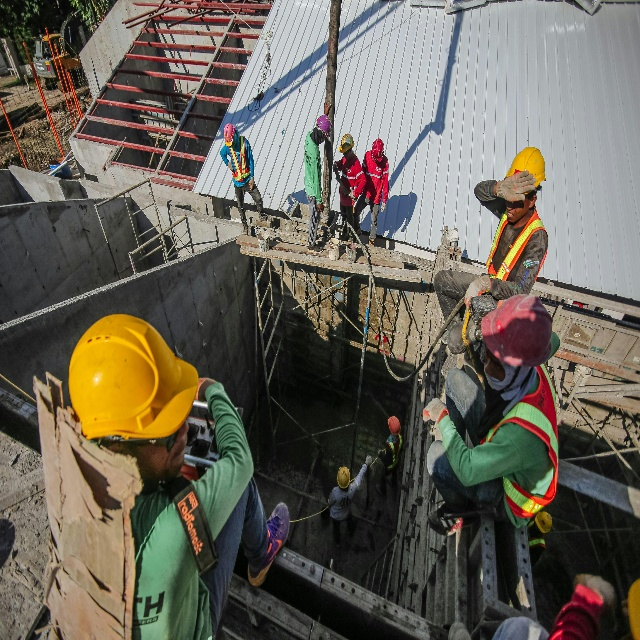Gafas: (165, 431, 178, 449)
Guantes: (464, 274, 490, 309), (422, 396, 447, 428), (348, 186, 356, 200), (249, 176, 255, 191), (380, 201, 386, 213), (228, 160, 233, 170)
Sin_guantes: (317, 203, 323, 213)
